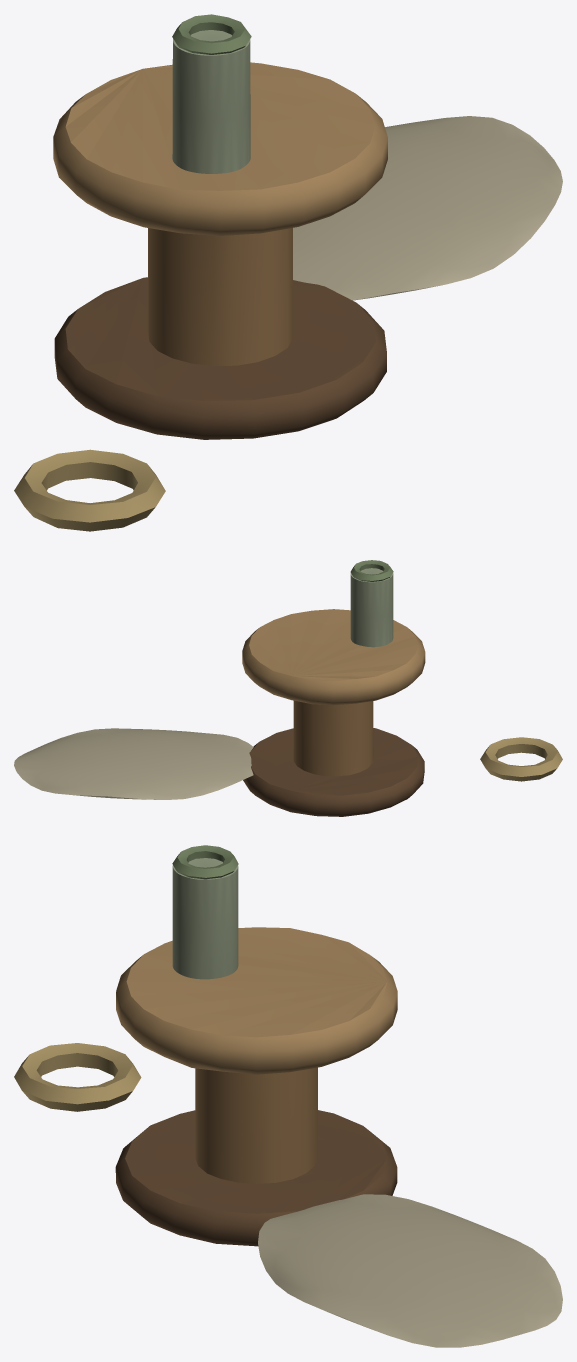
The model's file is watch_stool_c.glb.
The picture shows the model from 3 angles, top to bottom: view 1: azimuth 30°, elevation 25°; view 2: azimuth 150°, elevation 25°; view 3: azimuth 270°, elevation 25°; orthographic projection. The views are drawn at different scales.
Parts seen in each view (by area): view 1: Surface; view 2: Surface; view 3: Surface.
Part boxes in pixels (x1,y1,x2,y2): Surface: (14,14,562,531); Surface: (14,560,562,816); Surface: (14,845,562,1347).
Bounding box in the file's own units: 2.83 × 1.37 × 2.14.
